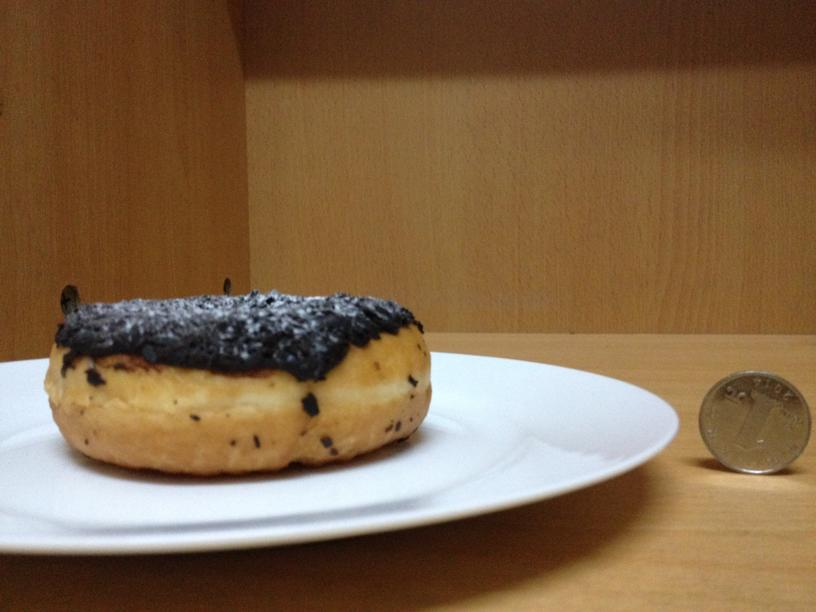coin: (701, 367, 810, 474)
doughnut: (38, 293, 434, 474)
